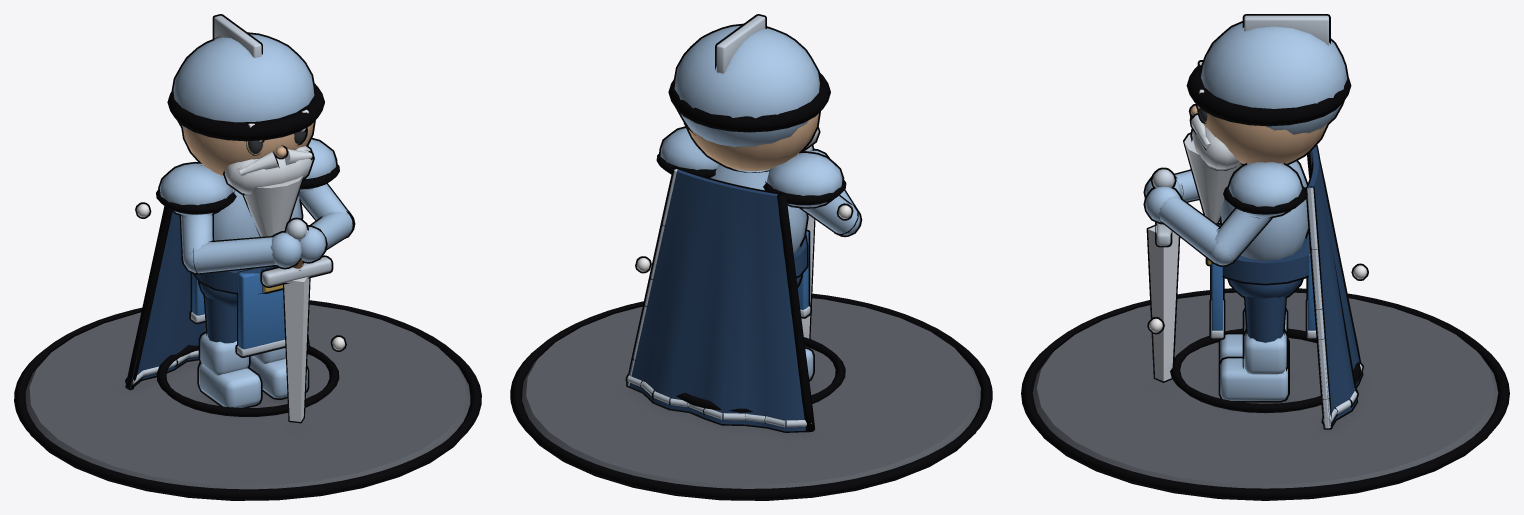
Rendered from spirit_knight.fbx.
3 views of the same model, side by side, from view 1: azimuth 30°, elevation 25°; view 2: azimuth 150°, elevation 25°; view 3: azimuth 270°, elevation 25° (orthographic). The views are drawn at different scales.
Visible parts, largest first — view 1: spirit_knight; view 2: spirit_knight; view 3: spirit_knight.
Boxes of the visible parts, x1=… form: spirit_knight: x1=14, y1=14, x2=481, y2=500; spirit_knight: x1=510, y1=14, x2=992, y2=500; spirit_knight: x1=1021, y1=14, x2=1509, y2=500.
Size of the model in its own units: 3.28 by 2.85 by 3.28.
Materials: 2 (1 with a texture image).
